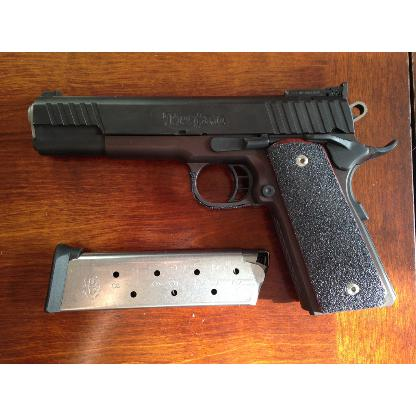gun: (28, 82, 398, 316)
